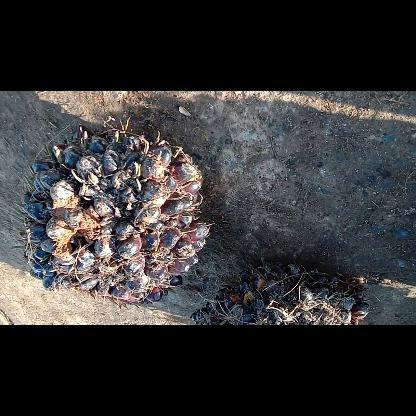TBS mentah: (22, 128, 210, 309), (190, 254, 370, 324)
